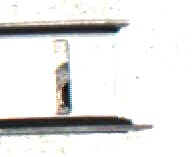40ngpress: (18, 20, 144, 132)
